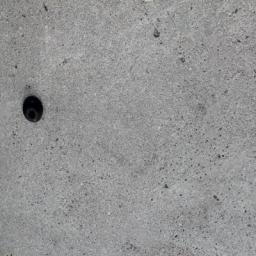FOD: (20, 93, 47, 127)
